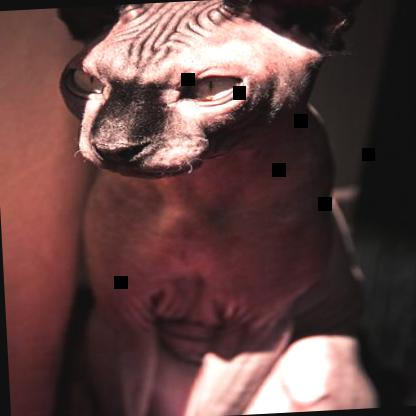cat: (50, 0, 384, 415)
